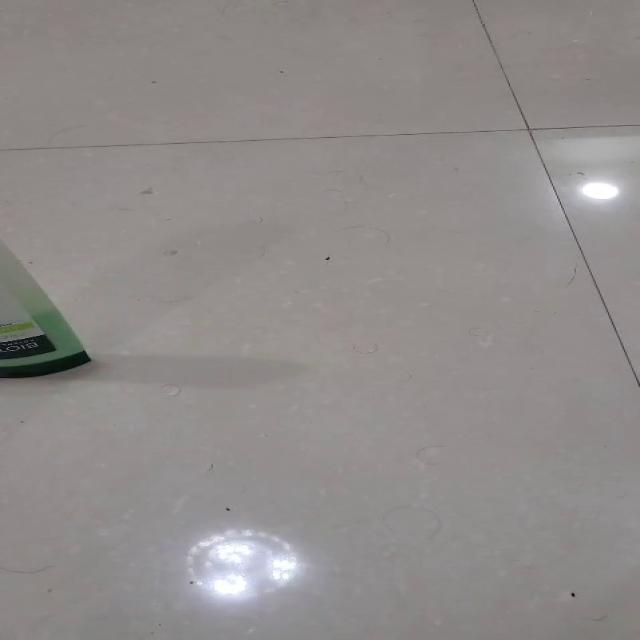plastic: (0, 239, 91, 378)
